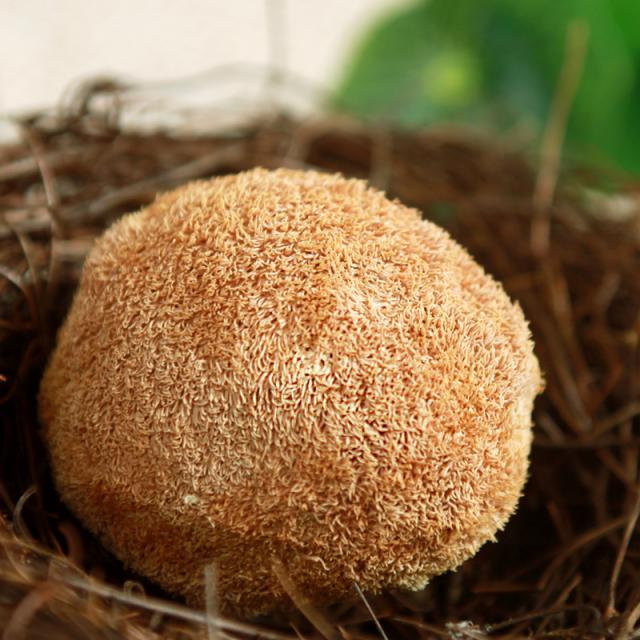Hericium erinaceus: (43, 169, 542, 596)
